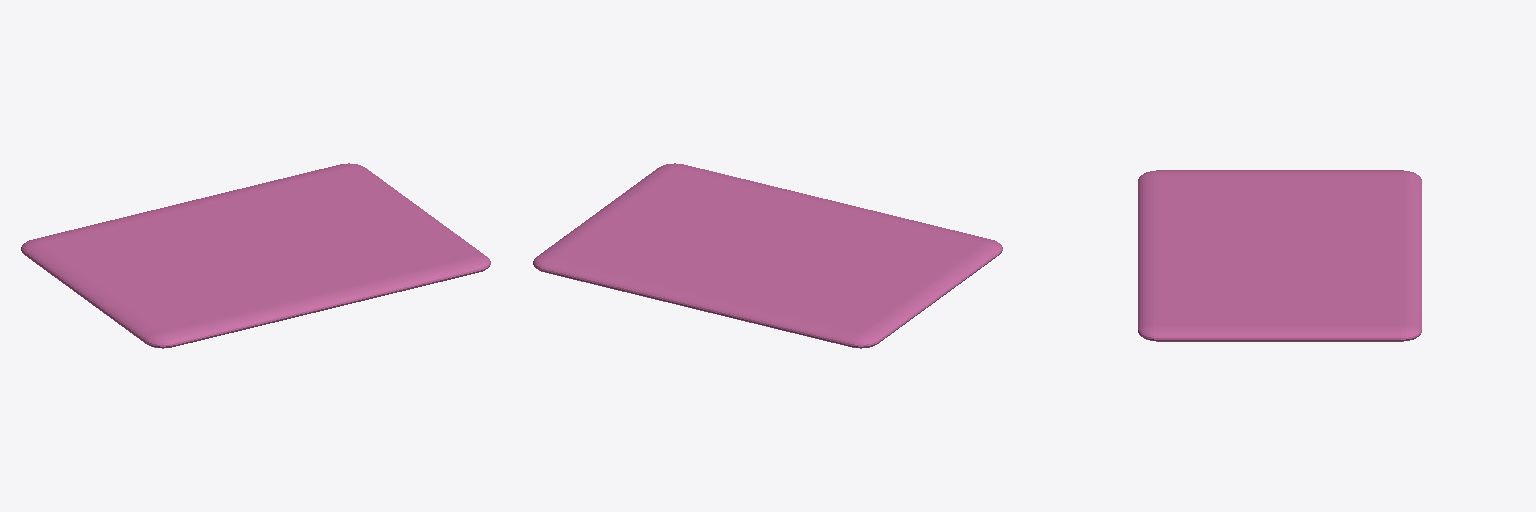
The model's file is creditstick.obj.
The picture shows the model from 3 angles: view 1: azimuth 30°, elevation 25°; view 2: azimuth 150°, elevation 25°; view 3: azimuth 270°, elevation 25°; orthographic projection.
Visible parts, largest first — view 1: creditstick_reference; view 2: creditstick_reference; view 3: creditstick_reference.
Part boxes in pixels (x1,y1,x2,y2): creditstick_reference: (21,163,490,348); creditstick_reference: (533,163,1002,348); creditstick_reference: (1138,170,1421,341).
Bounding box in the file's own units: 9.32 × 0.3215 × 6.68.